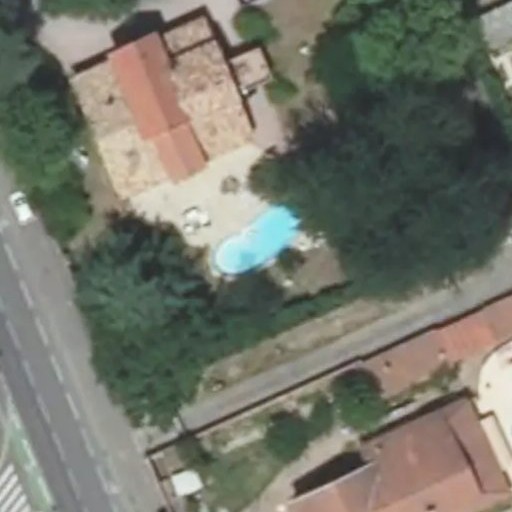pool: (210, 204, 301, 277)
